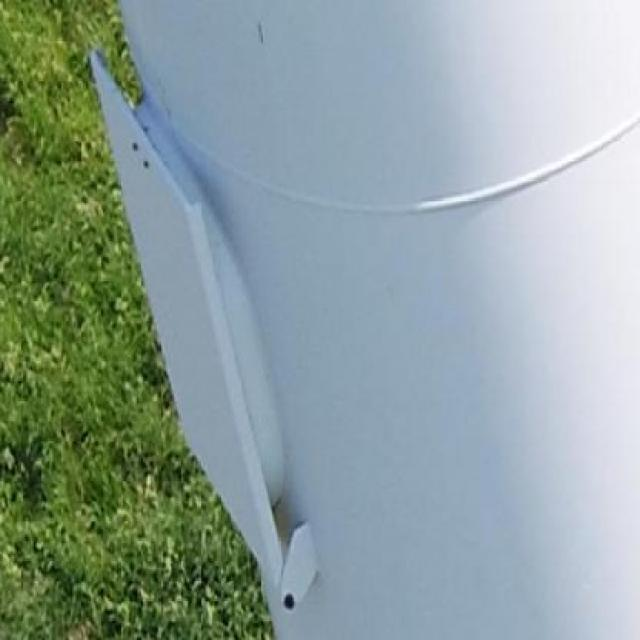Crack: (257, 19, 265, 50)
